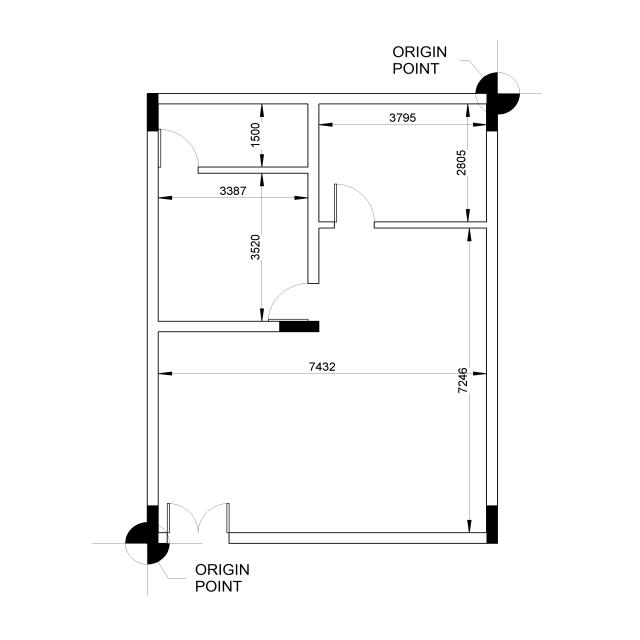Column: (146, 505, 158, 544), (486, 93, 498, 131), (486, 506, 498, 544), (146, 93, 158, 131), (280, 321, 320, 332)
Door: (268, 284, 319, 321), (334, 184, 375, 228), (159, 128, 198, 174)
Double-Door: (167, 503, 229, 543)
